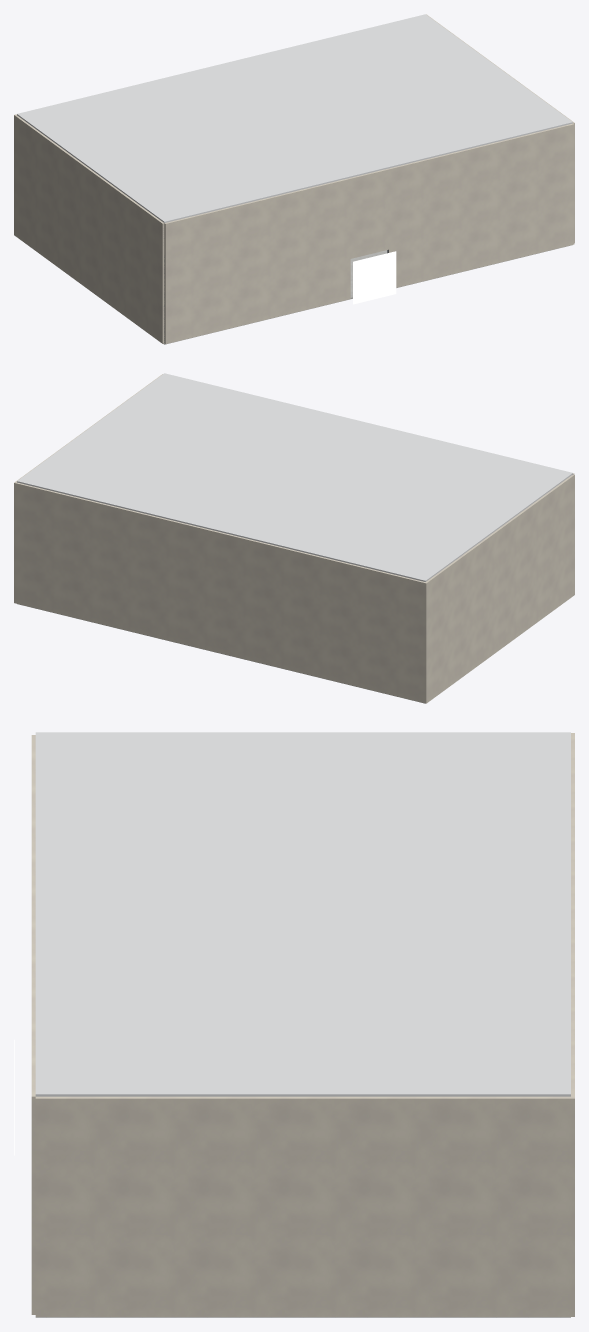
File: room_airport.glb
The picture shows the model from 3 angles, top to bottom: view 1: azimuth 30°, elevation 25°; view 2: azimuth 150°, elevation 25°; view 3: azimuth 270°, elevation 25°; orthographic projection. The views are drawn at different scales.
Visible parts, largest first — view 1: Room; view 2: Room; view 3: Room.
Boxes of the visible parts, x1,y1,x2,y2 form: Room: (14,14,574,344); Room: (14,373,574,703); Room: (14,732,574,1317).
Size of the model in its own units: 32.3 by 9.2 by 20.96.
24 materials, 2 textured.
